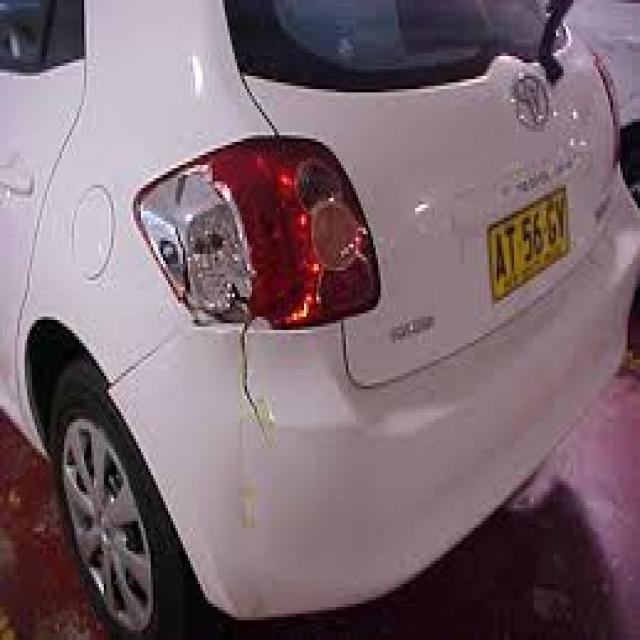minor: (144, 150, 346, 465)
